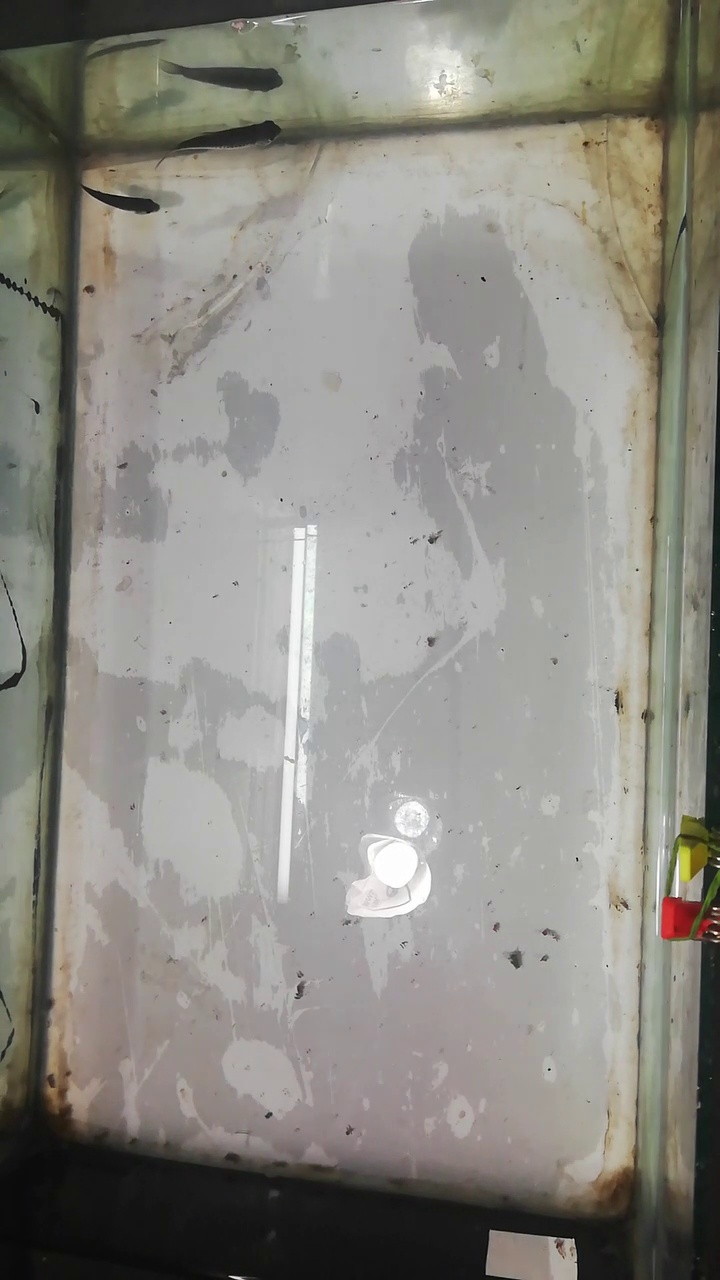fish1: (159, 119, 285, 153)
fish2: (76, 184, 162, 218)
